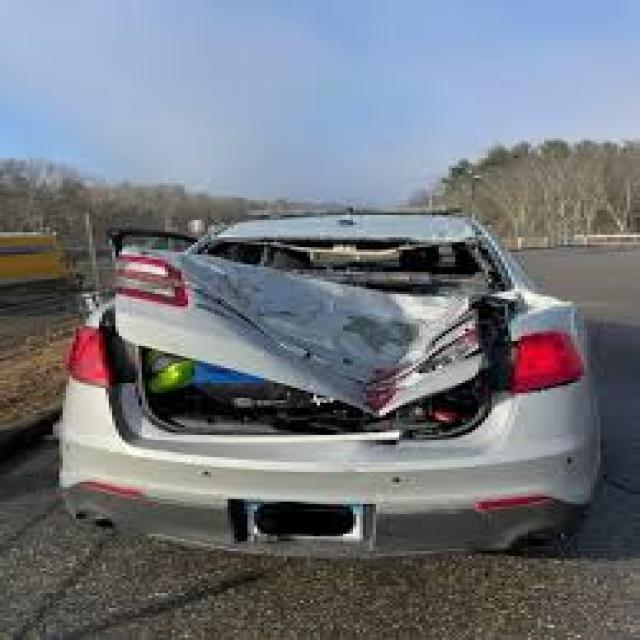damaged-trunk: (100, 232, 512, 432)
